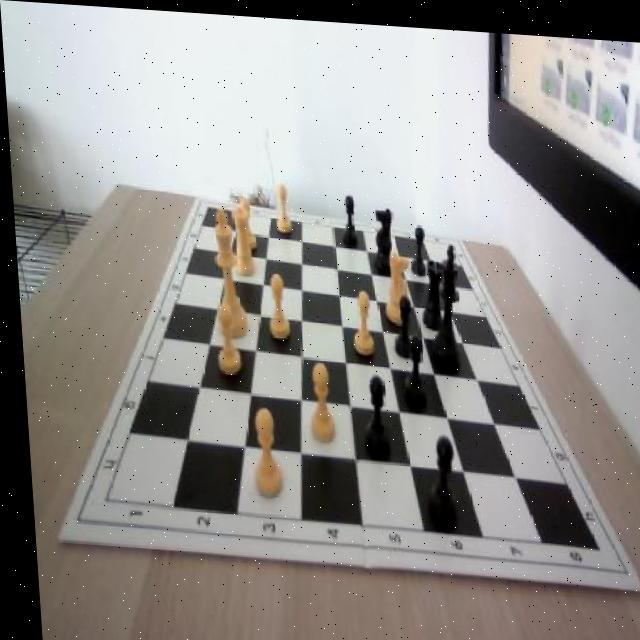black-bishop: (417, 231, 465, 368)
black-king: (368, 199, 393, 272)
black-knight: (420, 429, 454, 519), (357, 370, 387, 457), (396, 332, 424, 403), (388, 287, 413, 356), (338, 189, 358, 243), (406, 219, 424, 273)
black-queen: (417, 250, 443, 326)
white-bishop: (204, 204, 244, 336)
white-king: (380, 245, 409, 321)
white-knight: (242, 404, 279, 496), (299, 355, 335, 441), (207, 298, 239, 376), (259, 270, 287, 339), (347, 283, 372, 351), (270, 180, 292, 229), (234, 195, 254, 246)
white-queen: (227, 202, 254, 274)
